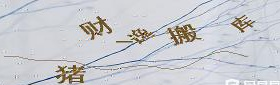chinese: (167, 20, 201, 44), (79, 20, 116, 40), (58, 62, 88, 83), (229, 14, 254, 35), (127, 28, 154, 43)
